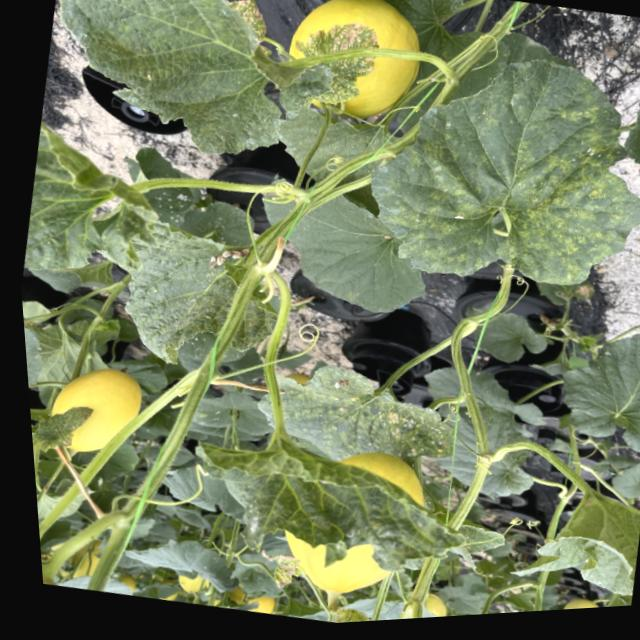CMV: (163, 407, 482, 606), (498, 472, 640, 613), (29, 394, 97, 462)
SLCV: (93, 206, 311, 398), (15, 115, 178, 286), (267, 351, 474, 480)
alternaria leaf blight: (252, 544, 318, 597), (330, 607, 373, 623)
downy mildew: (332, 12, 640, 317), (30, 0, 362, 188), (281, 9, 390, 116)
healthy: (259, 168, 448, 329), (605, 37, 640, 199)
powdery mildew: (546, 328, 640, 458)
